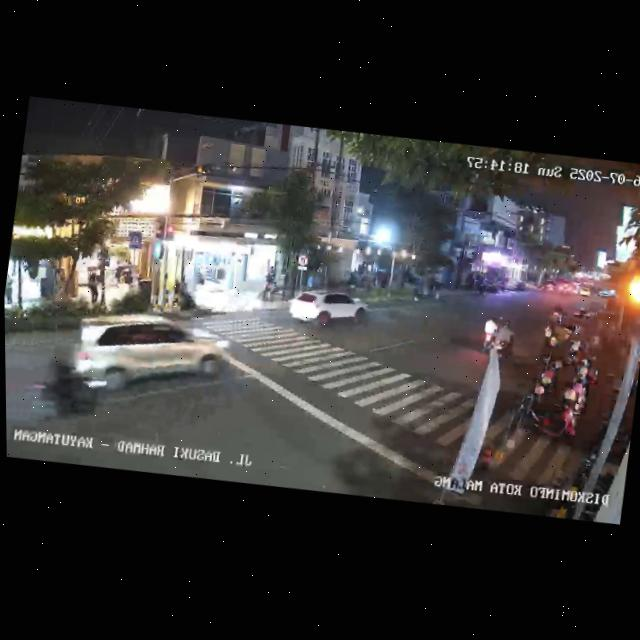car: (65, 300, 238, 410), (286, 283, 370, 337)
motorcycle: (31, 340, 110, 426), (492, 317, 519, 361), (478, 315, 499, 356)
person: (566, 328, 584, 364), (86, 271, 102, 307), (4, 276, 16, 308)
